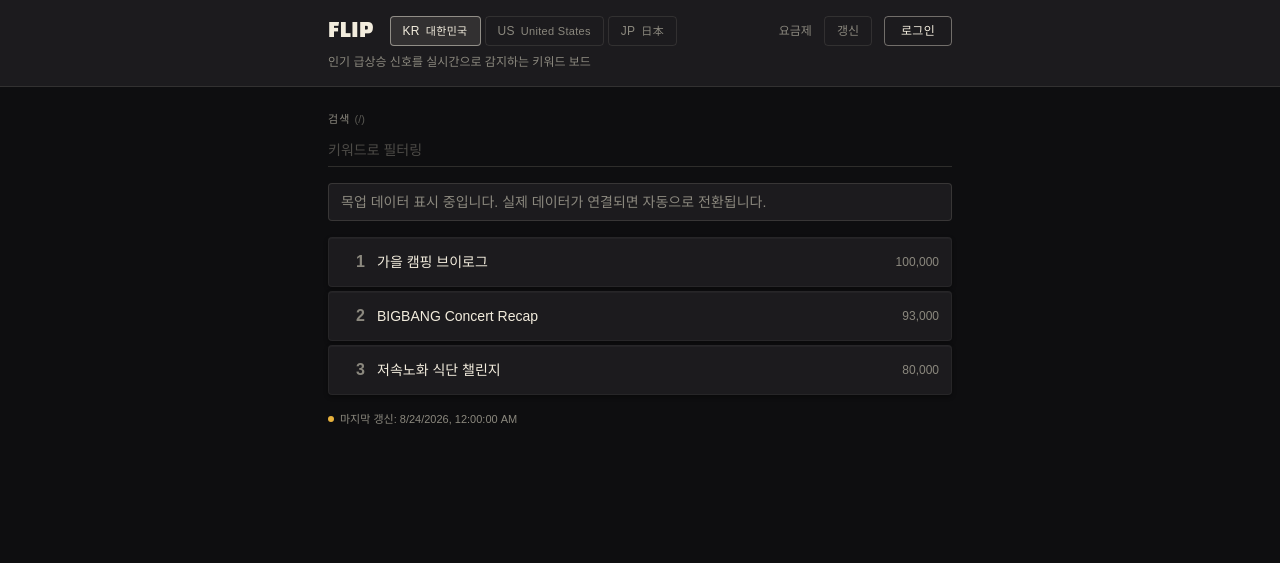
Test: Home dashboard › keyword search/filter › shows a distinct 'no matches' state (not the no-data-at-all empty state) with the query and a clear affordance
The image size is (1280, 563).
expect the button "가을 캠핑 브이로그" is shown: met, box top-left (377, 248), bottom-right (884, 276)
Type "완전히없는검색어" into the field labelled "검색 (/)".
click(640, 150); type("완전히없는검색어")  # box top-left (328, 134), bottom-right (952, 166)
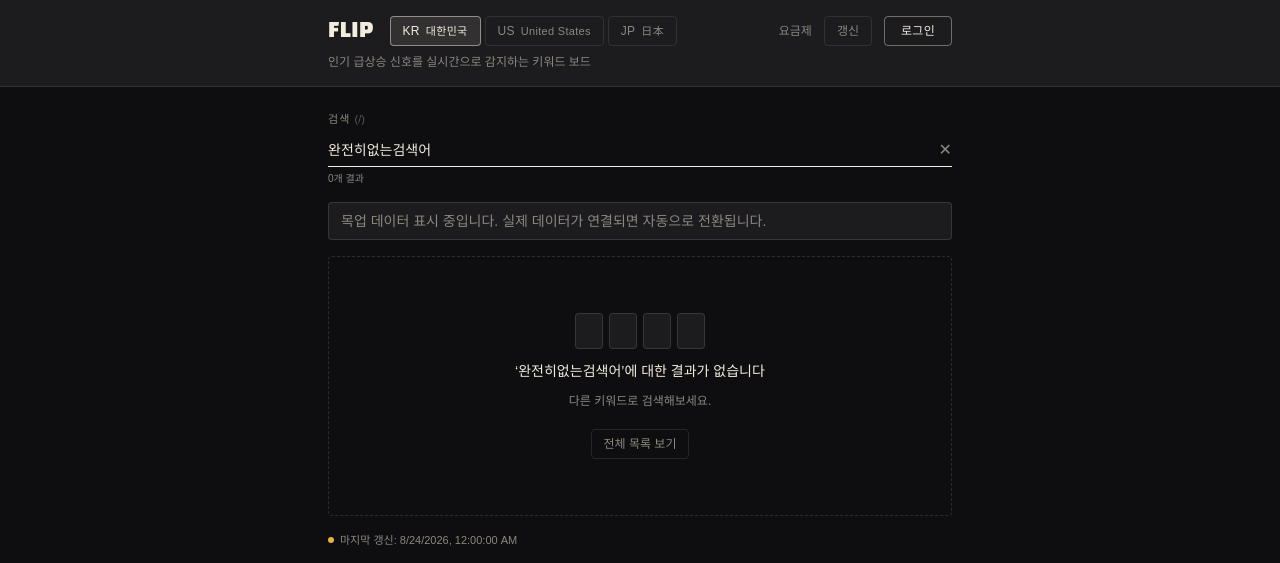
expect the text "‘완전히없는검색어’에 대한 결과가 없습니다" is shown: met, box top-left (515, 360), bottom-right (765, 380)
expect the list is gone: met
Click the button "전체 목록 보기".
click(640, 444)  # box top-left (590, 428), bottom-right (689, 458)
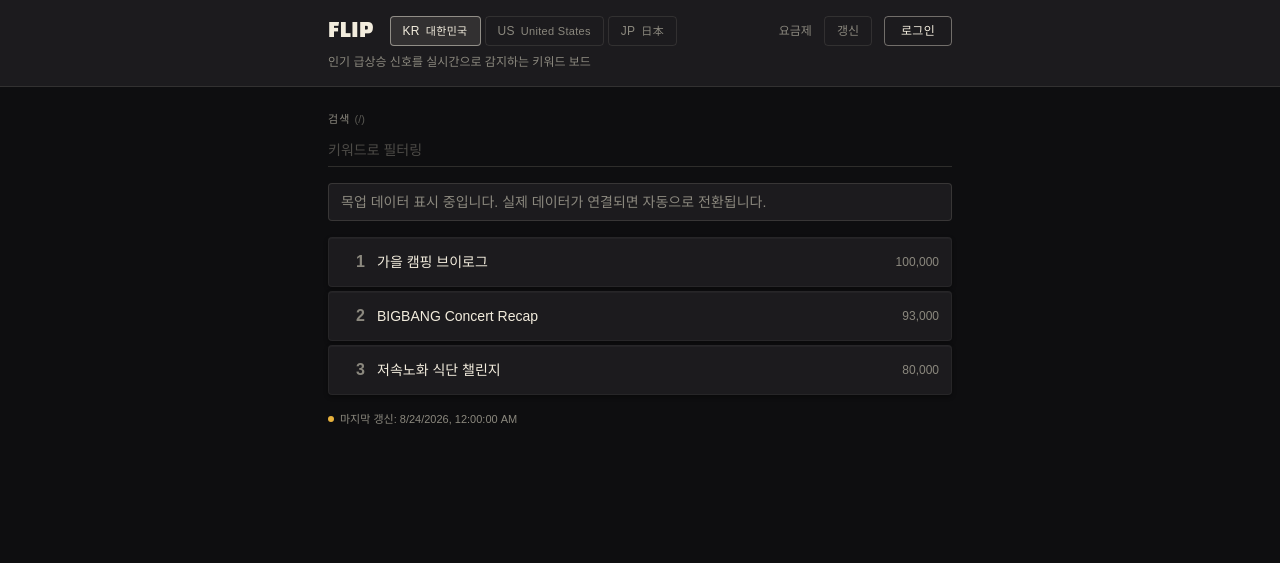
expect the button "가을 캠핑 브이로그" is shown: met, box top-left (377, 248), bottom-right (884, 276)
expect the button "BIGBANG Concert Recap" is shown: met, box top-left (377, 302), bottom-right (890, 330)
